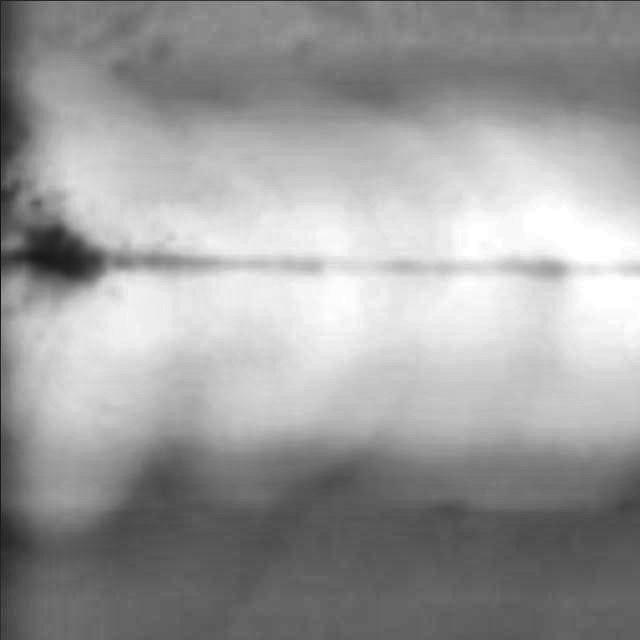LoP-LoF: (124, 216, 640, 312)
Slag: (0, 202, 111, 330)
